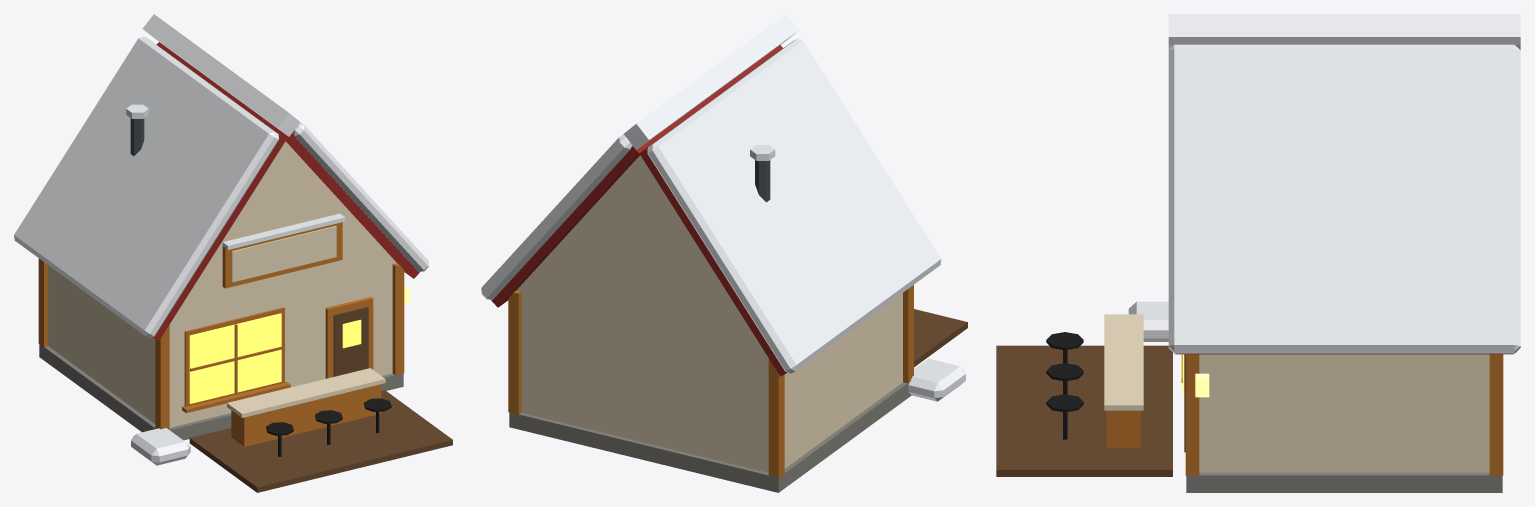
Rendered from waffle-haus.glb.
The picture shows the model from 3 angles, left to right: view 1: azimuth 30°, elevation 25°; view 2: azimuth 150°, elevation 25°; view 3: azimuth 270°, elevation 25°; orthographic projection. The views are drawn at different scales.
Parts seen in each view (by area): view 1: waffle-haus; view 2: waffle-haus; view 3: waffle-haus.
Boxes of the visible parts, x1,y1,x2,y2 form: waffle-haus: [14, 14, 452, 492]; waffle-haus: [481, 14, 967, 492]; waffle-haus: [996, 14, 1520, 492].
Bounding box in the file's own units: 8.96 × 9.04 × 10.69.
